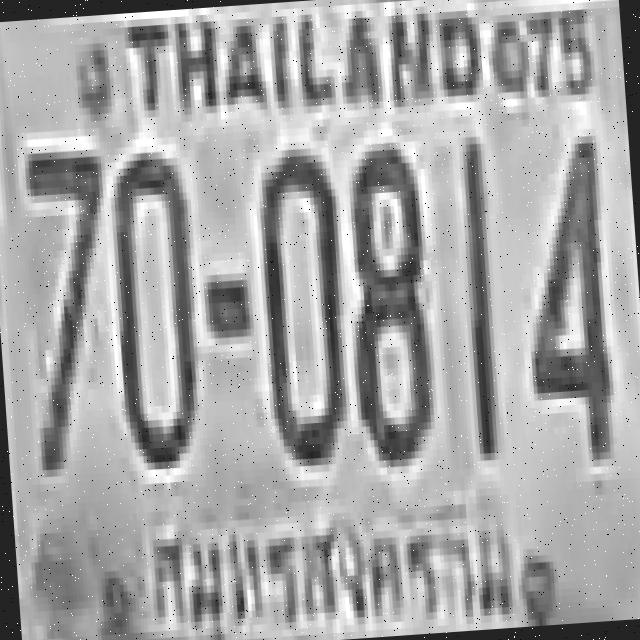0: (252, 140, 350, 461), (103, 143, 201, 464)
1: (452, 130, 500, 453), (454, 136, 502, 454)
4: (514, 125, 616, 453)
7: (19, 142, 118, 463)
8: (338, 134, 433, 462)
SamutSongkhram: (135, 493, 519, 640)
